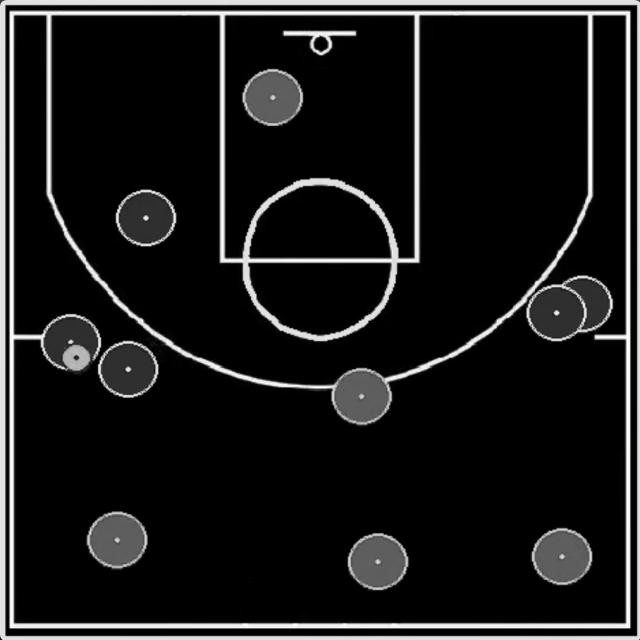Basketball: (61, 345, 91, 373)
Team_A: (98, 341, 158, 398), (41, 314, 101, 371), (116, 190, 176, 246), (554, 276, 614, 332), (527, 285, 585, 341)
Team_B: (86, 511, 148, 569), (242, 69, 303, 126), (331, 368, 391, 425), (532, 529, 592, 585), (348, 534, 408, 590)
